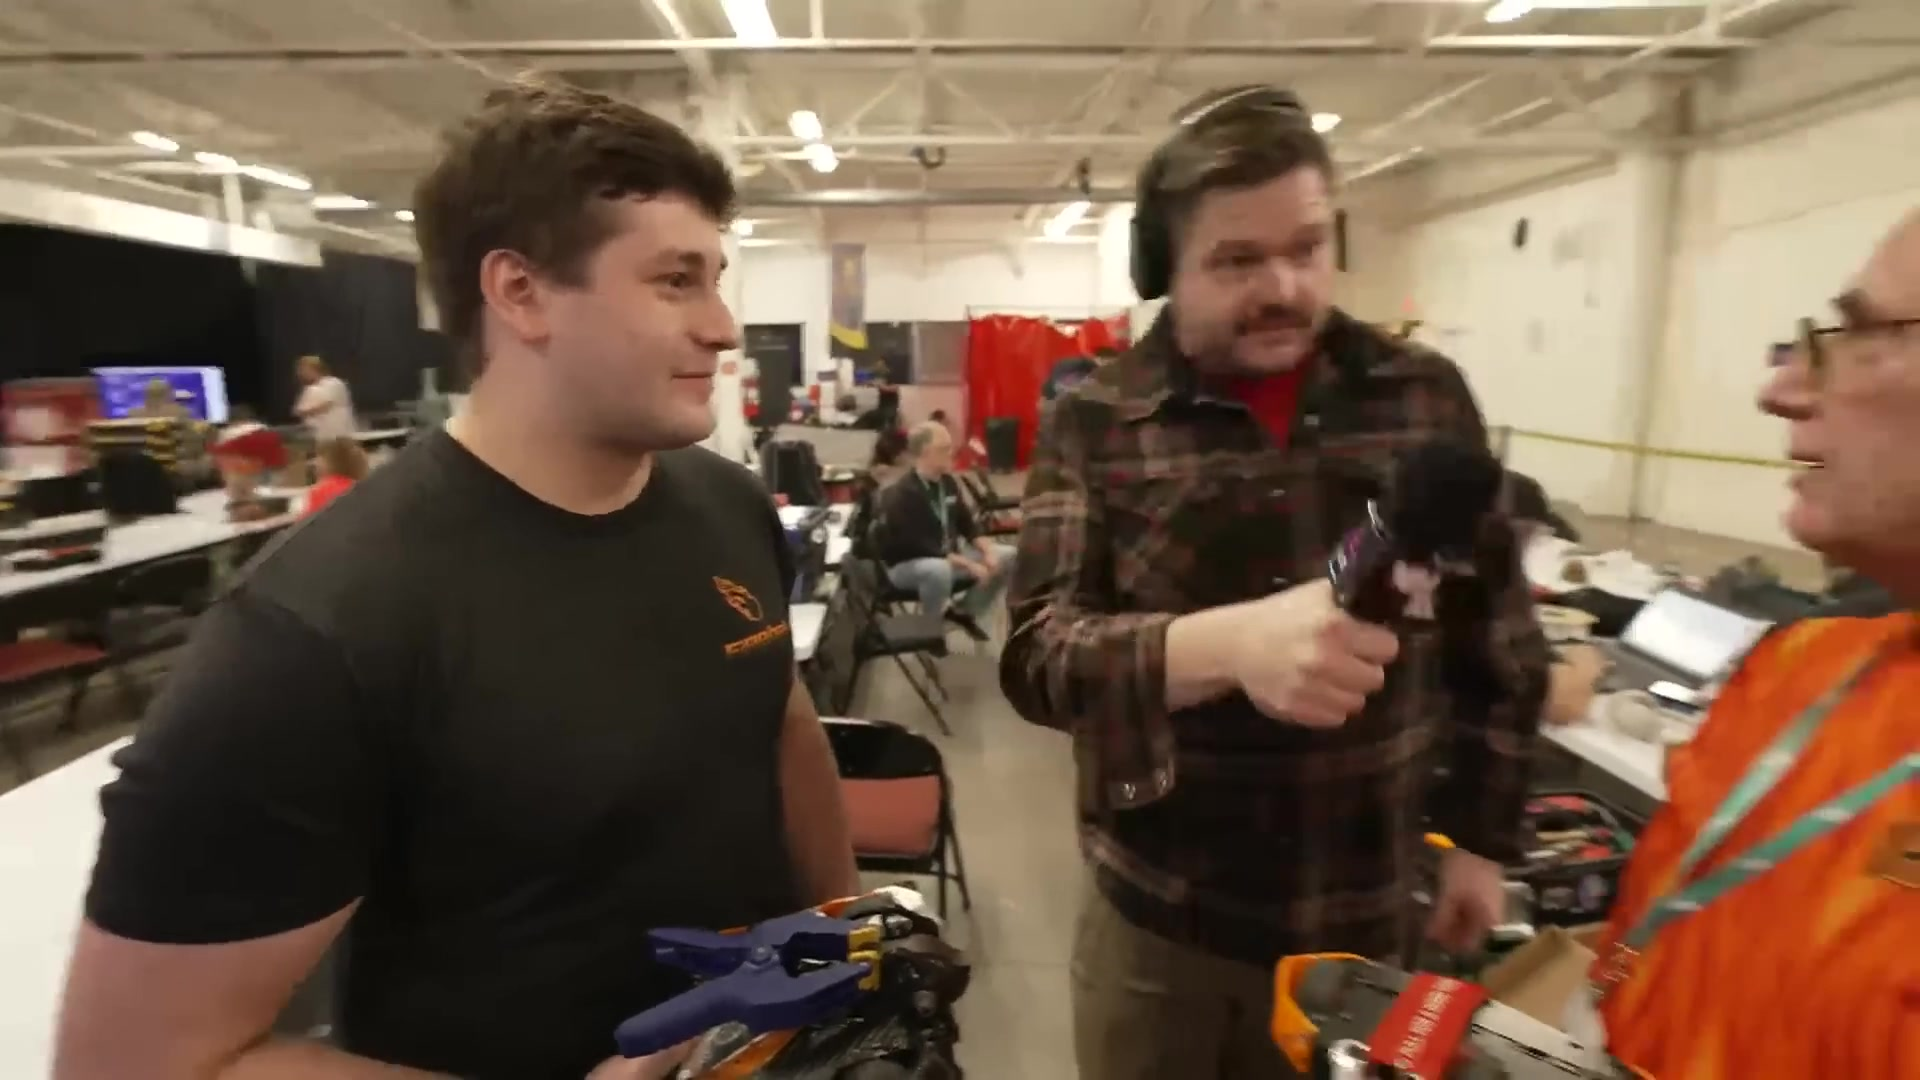combatbot: (676, 881, 976, 1080), (1266, 951, 1654, 1080)
